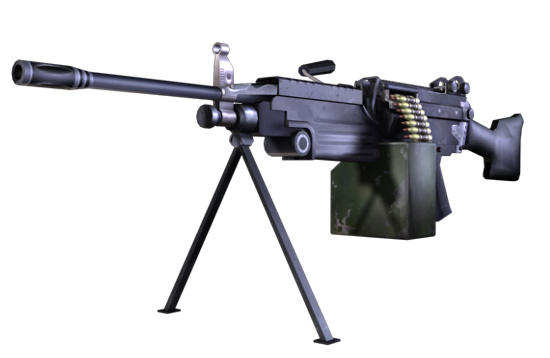rifle: (16, 20, 529, 352)
